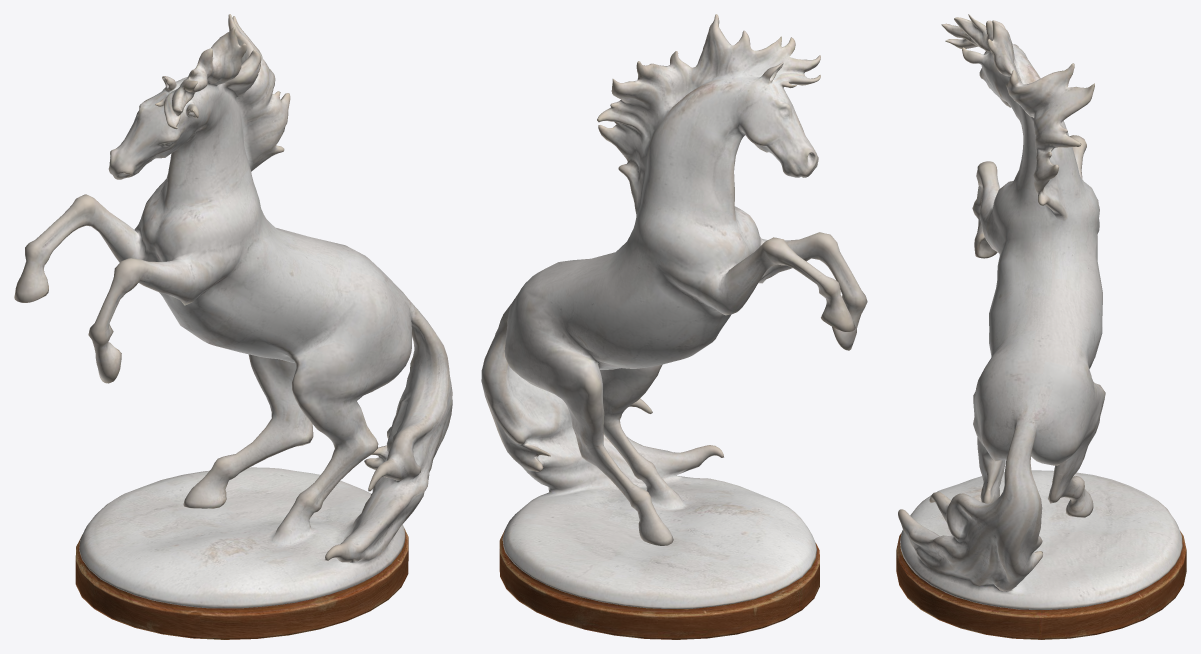
Rendered from horse_statue_01.glb.
3 renders of one model, left to right at view 1: azimuth 30°, elevation 25°; view 2: azimuth 150°, elevation 25°; view 3: azimuth 270°, elevation 25°, orthographic. The views are drawn at different scales.
Parts seen in each view (by area): view 1: horse_statue_01; view 2: horse_statue_01; view 3: horse_statue_01.
Part boxes in pixels (x1,y1,x2,y2): horse_statue_01: (14, 14, 452, 639); horse_statue_01: (481, 14, 867, 639); horse_statue_01: (896, 14, 1186, 639).
Size of the model in its own units: 0.1638 by 0.22 by 0.1078.
2 materials, 2 textured.
